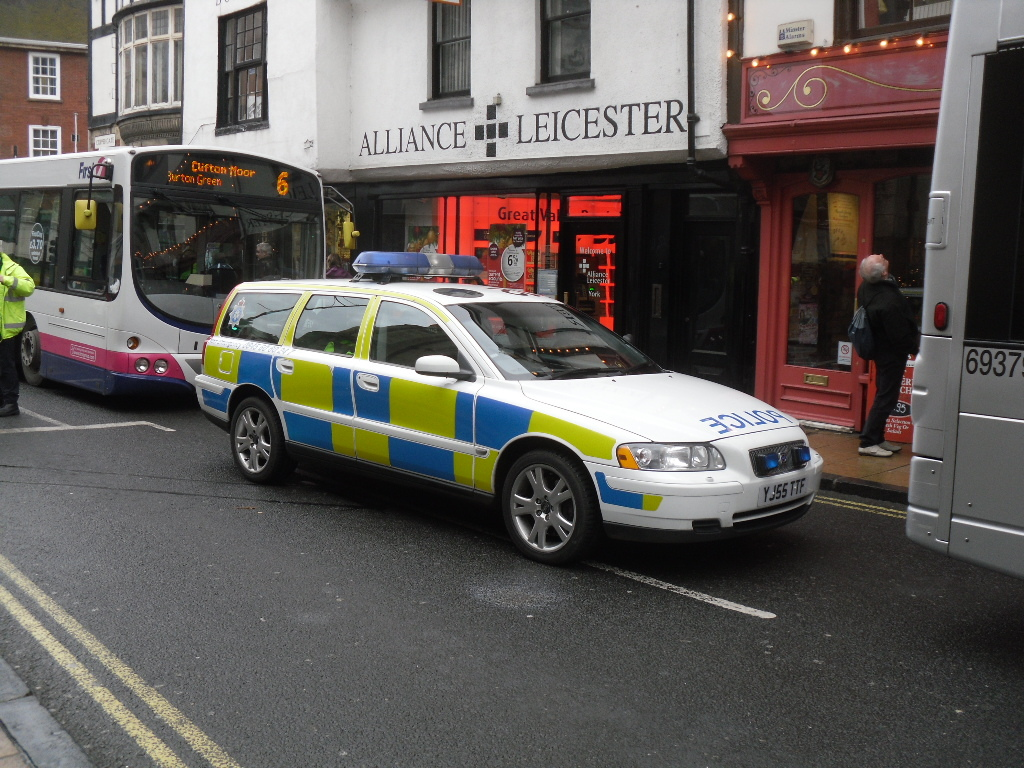Bus: (0, 149, 357, 399), (906, 0, 1022, 576)
